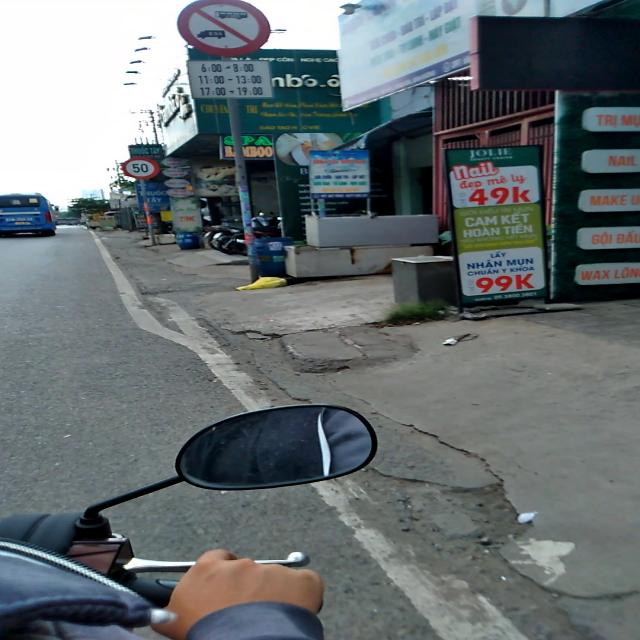P.127: (121, 157, 160, 180)
